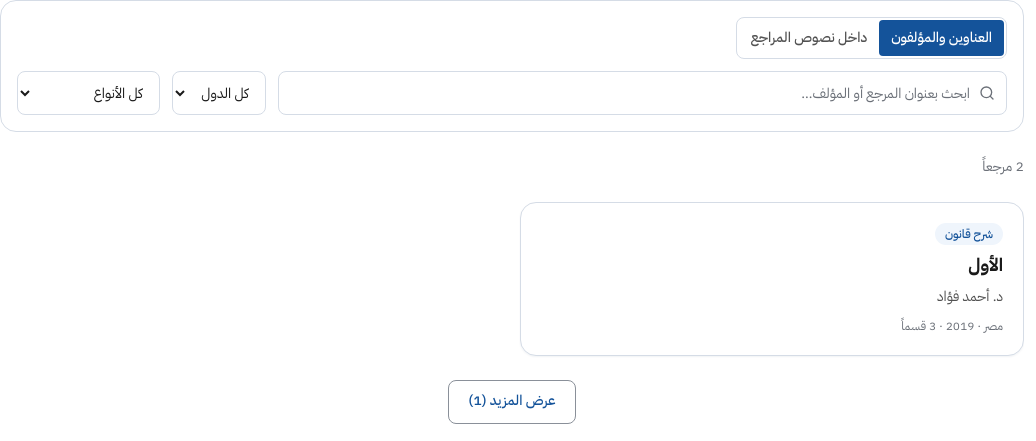
Test case: ReferencesBrowser › "عرض المزيد" يطلب الصفحة التالية ويلصقها بعد الحالية
The width and height of the screenshot is (1036, 441).
expect the link "شرح قانون الأول د. أحمد فؤاد مصر · 2019 · 3 قسماً" is shown: met, box [520,202,1024,356]
Click the button "عرض المزيد (1)". click: (512, 402)
box: [448,380,576,424]
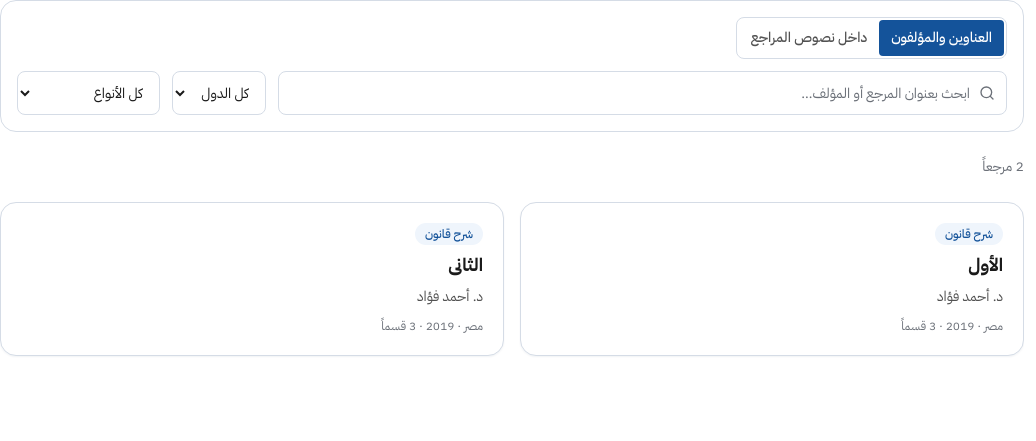
expect the link "شرح قانون الثانى د. أحمد فؤاد مصر · 2019 · 3 قسماً" is shown: met, box [0,202,504,356]
expect the button "عرض المزيد" is gone: met
